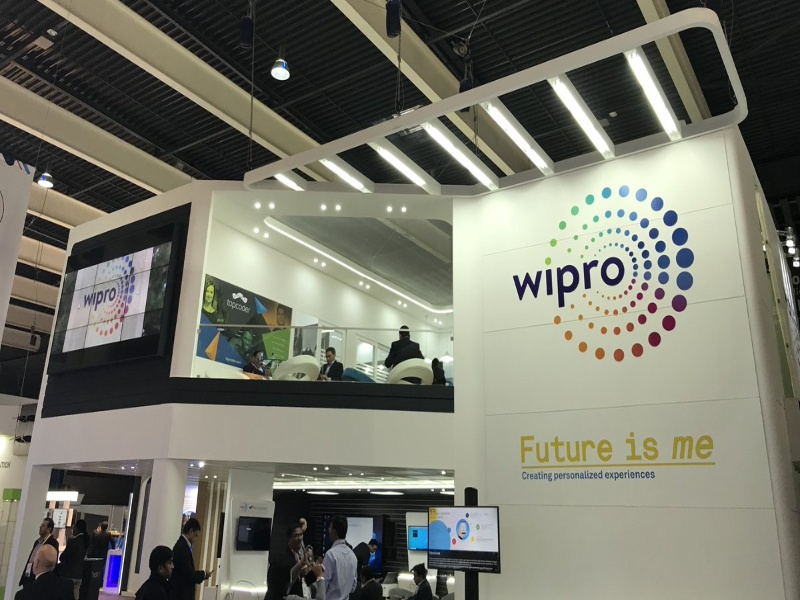wipro: (502, 186, 702, 366), (79, 270, 143, 337), (237, 498, 249, 514)
